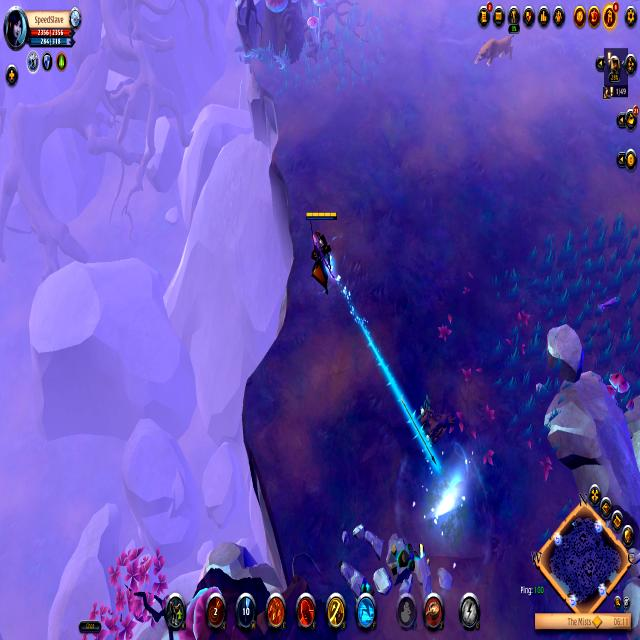hide: (412, 393, 456, 457)
ore: (471, 35, 519, 71)
player: (335, 518, 436, 594)
red: (302, 204, 340, 291)
